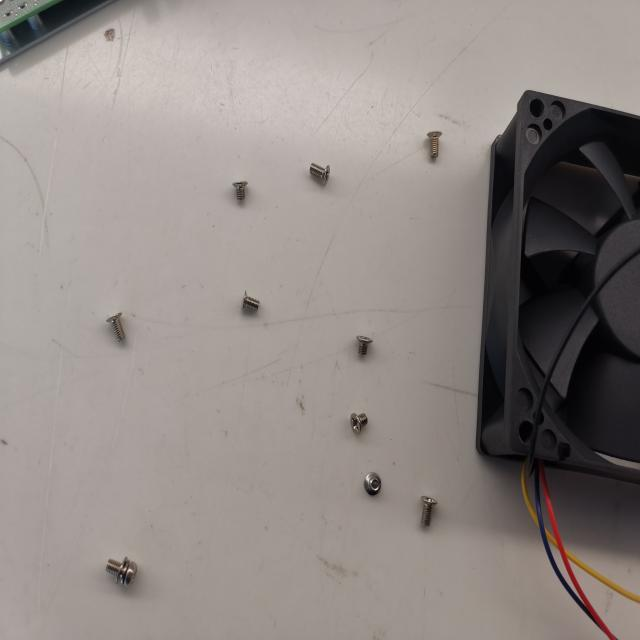Screw: (105, 553, 141, 591), (105, 308, 128, 346), (306, 160, 334, 188), (418, 494, 439, 530), (424, 129, 446, 161), (348, 410, 370, 438), (239, 289, 261, 316), (363, 471, 383, 497), (354, 332, 374, 357), (230, 178, 250, 202)
